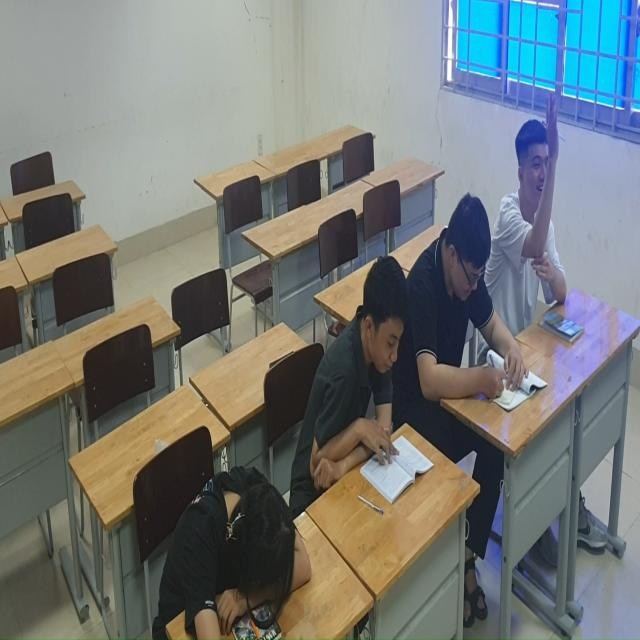raise_hand: (511, 90, 587, 353)
read: (302, 247, 436, 505), (417, 184, 529, 431)
sleep: (154, 457, 316, 640)
